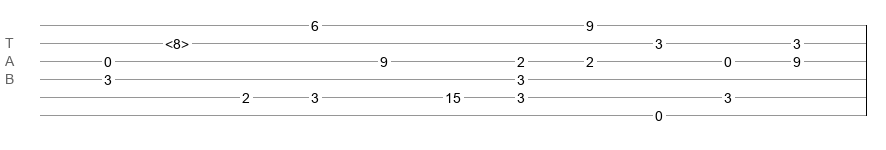0: (104, 54, 112, 64), (655, 108, 663, 118), (724, 54, 732, 64)
15: (445, 90, 461, 100)
2: (242, 90, 250, 100), (517, 54, 525, 64), (586, 54, 594, 64)
3: (104, 72, 112, 82), (311, 90, 319, 100), (517, 90, 525, 100), (517, 72, 525, 82), (655, 36, 663, 46), (724, 90, 732, 100), (793, 36, 801, 46)
6: (311, 18, 319, 28)
9: (380, 54, 388, 64), (586, 18, 594, 28), (793, 54, 801, 64)
harmonic: (165, 36, 189, 46)
